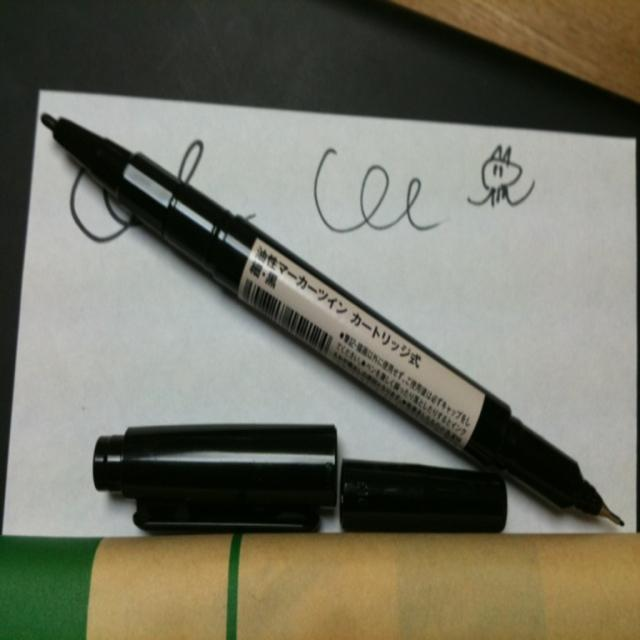pen: (39, 110, 624, 526)
